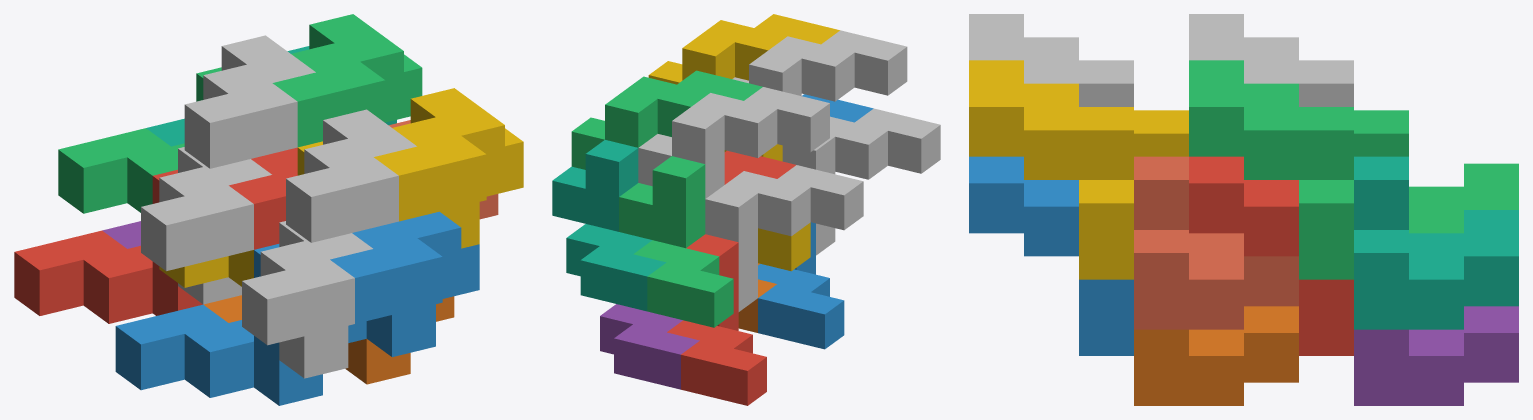
The model's file is tiling.obj.
The picture shows the model from 3 angles, left to right: view 1: azimuth 30°, elevation 25°; view 2: azimuth 150°, elevation 25°; view 3: azimuth 270°, elevation 25°; orthographic projection. The views are drawn at different scales.
Parts seen in each view (by area): view 1: copy_2_domain_8, copy_2_domain_6, copy_1_domain_2, copy_2_domain_2, copy_1_domain_1, copy_2_domain_3, copy_2_domain_4, copy_2_domain_1, copy_2_domain_7, copy_1_domain_3, copy_2_domain_5, copy_1_domain_6 (+4 smaller); view 2: copy_1_domain_3, copy_1_domain_7, copy_2_domain_3, copy_2_domain_1, copy_2_domain_4, copy_2_domain_2, copy_1_domain_1, copy_2_domain_7, copy_1_domain_2, copy_2_domain_8, copy_1_domain_5, copy_1_domain_4 (+3 smaller); view 3: copy_1_domain_7, copy_2_domain_7, copy_2_domain_8, copy_1_domain_8, copy_2_domain_5, copy_2_domain_6, copy_1_domain_5, copy_1_domain_6, copy_1_domain_3, copy_2_domain_3, copy_2_domain_4, copy_1_domain_4.
Boxes of the visible parts, <box> form: copy_2_domain_8: <box>374,88,523,248</box>; copy_2_domain_6: <box>330,211,479,357</box>; copy_1_domain_2: <box>115,244,366,405</box>; copy_2_domain_2: <box>242,221,372,378</box>; copy_1_domain_1: <box>14,169,202,323</box>; copy_2_domain_3: <box>184,35,315,168</box>; copy_2_domain_4: <box>286,109,416,242</box>; copy_2_domain_1: <box>141,147,271,304</box>; copy_2_domain_7: <box>272,14,422,147</box>; copy_1_domain_3: <box>58,67,221,213</box>; copy_2_domain_5: <box>229,147,297,249</box>; copy_1_domain_6: <box>203,295,454,384</box>; copy_1_domain_3: <box>619,156,733,327</box>; copy_1_domain_7: <box>552,140,666,311</box>; copy_2_domain_3: <box>638,87,829,198</box>; copy_2_domain_1: <box>705,165,863,311</box>; copy_2_domain_4: <box>732,30,907,101</box>; copy_2_domain_2: <box>782,108,940,255</box>; copy_1_domain_1: <box>667,234,766,405</box>; copy_2_domain_7: <box>571,70,762,169</box>; copy_1_domain_2: <box>758,222,844,349</box>; copy_2_domain_8: <box>648,14,839,84</box>; copy_1_domain_5: <box>600,304,699,389</box>; copy_1_domain_4: <box>724,144,810,271</box>; copy_1_domain_7: <box>1354,156,1518,329</box>; copy_2_domain_7: <box>1189,60,1353,279</box>; copy_2_domain_8: <box>969,60,1133,279</box>; copy_1_domain_8: <box>1134,156,1298,329</box>; copy_2_domain_5: <box>1189,156,1353,355</box>; copy_2_domain_6: <box>969,156,1133,355</box>; copy_1_domain_5: <box>1354,306,1518,405</box>; copy_1_domain_6: <box>1134,306,1298,405</box>; copy_1_domain_3: <box>1354,110,1518,233</box>; copy_2_domain_3: <box>1189,14,1353,106</box>; copy_2_domain_4: <box>969,14,1133,106</box>; copy_1_domain_4: <box>1134,110,1188,156</box>.
Bounding box in the file's own units: 7 × 6 × 10.
